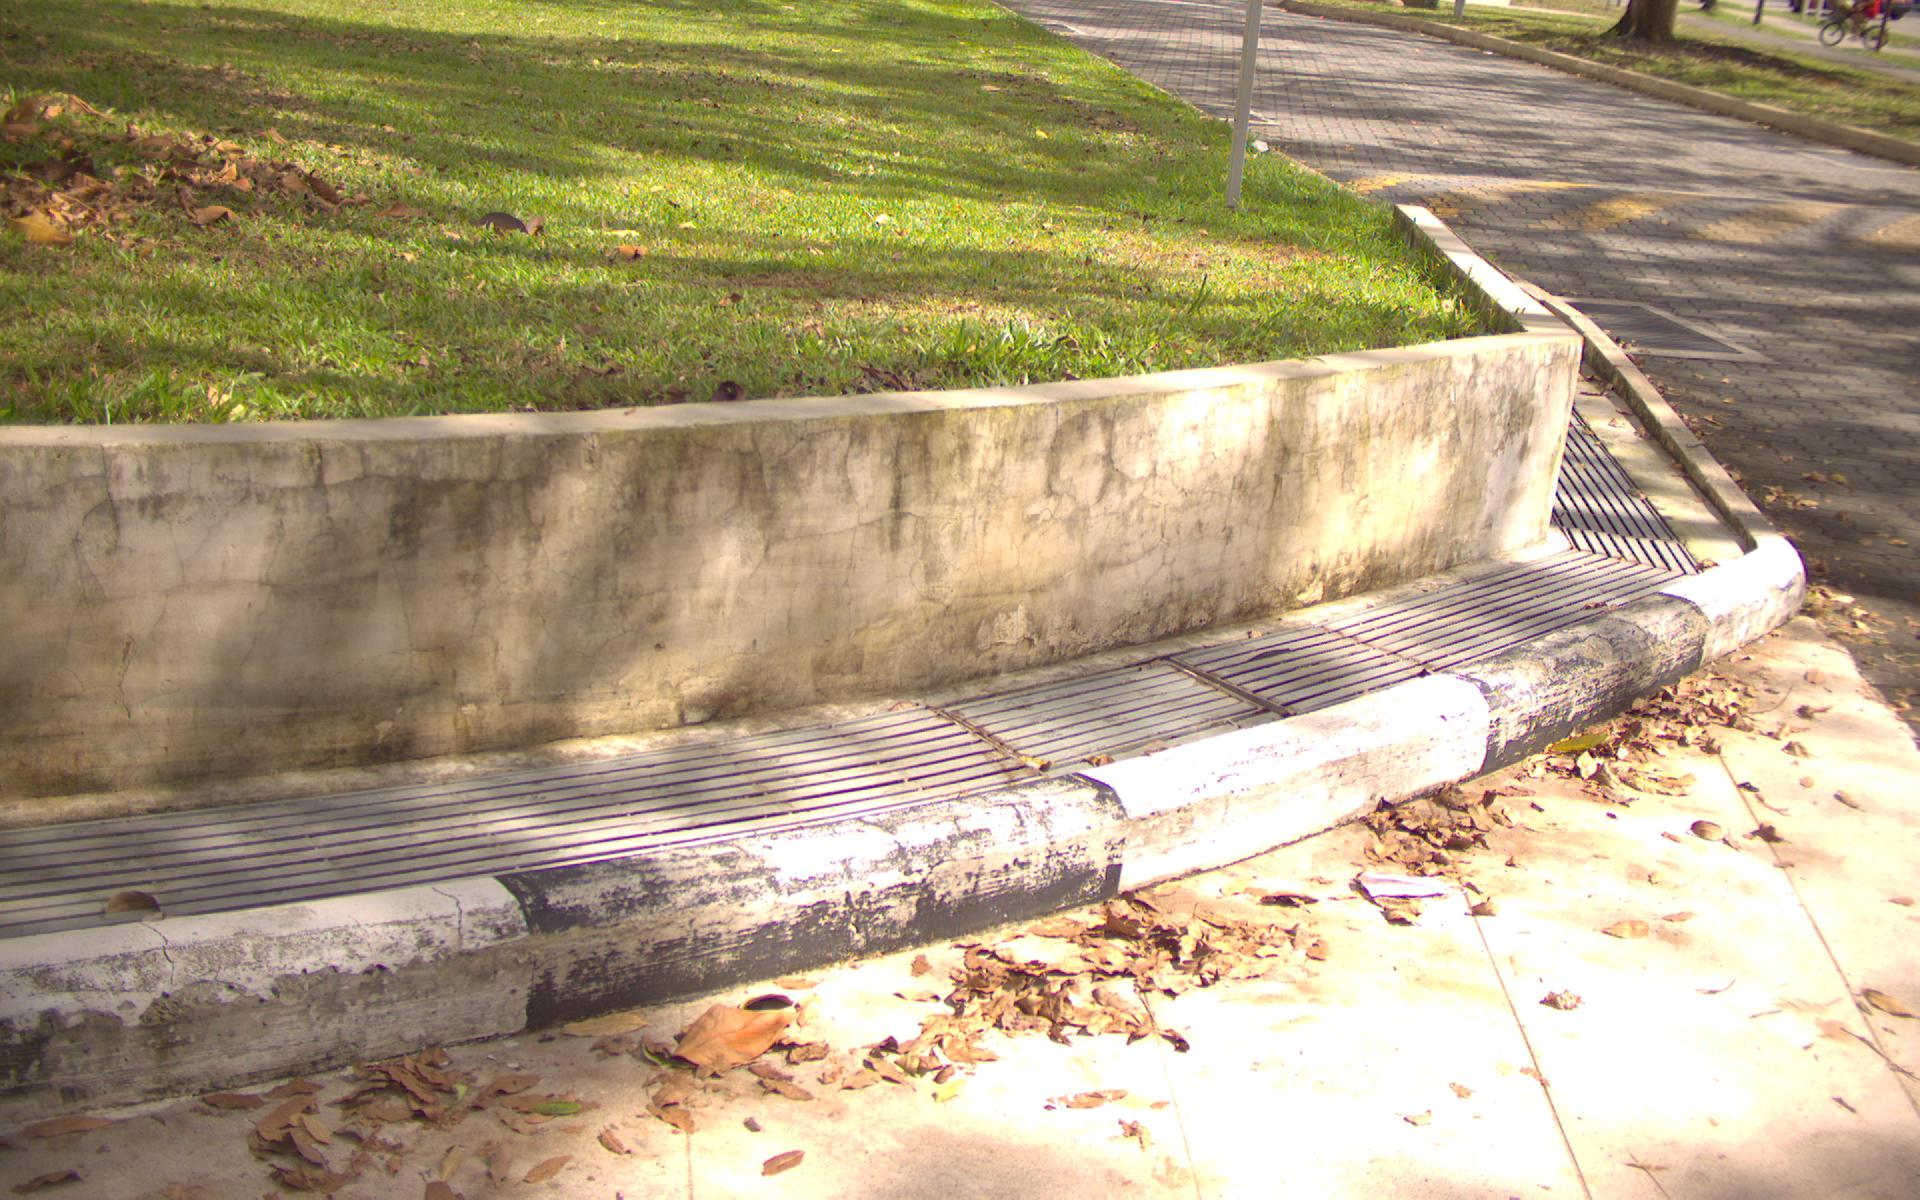curb_dic_low: (1, 769, 521, 919)
pathway_low: (1721, 160, 1902, 460)
road_curb_medium: (73, 1038, 1920, 1200)
road_turf_low: (12, 10, 1080, 359)
